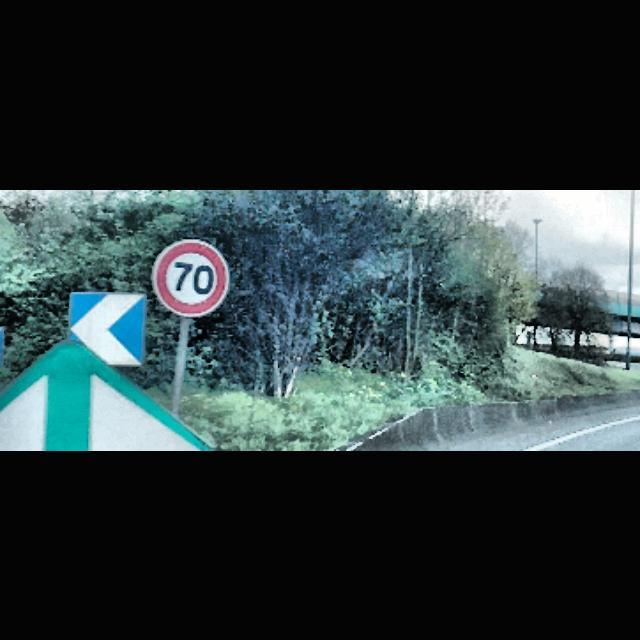speed_70: (153, 238, 229, 316)
